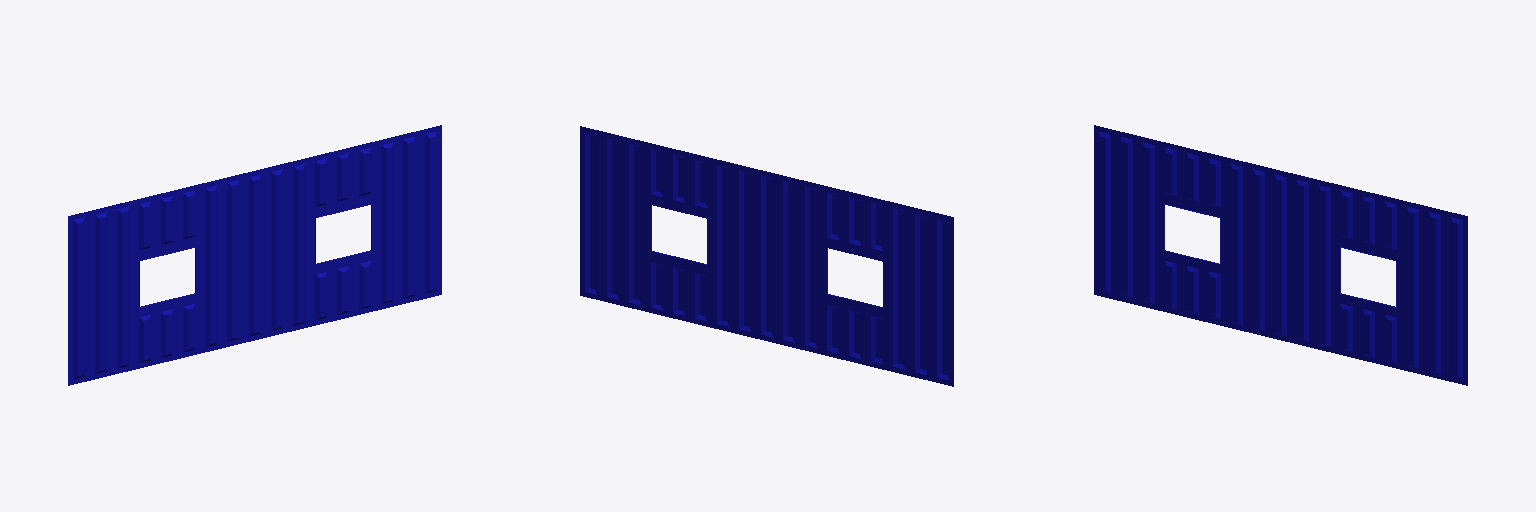
File: ContainerSide.obj
The picture shows the model from 3 angles: view 1: azimuth 30°, elevation 25°; view 2: azimuth 150°, elevation 25°; view 3: azimuth 330°, elevation 25°; orthographic projection.
Parts seen in each view (by area): view 1: Object002; view 2: Object002; view 3: Object002.
Part boxes in pixels (x1,y1,x2,y2): Object002: (68, 125, 441, 385); Object002: (580, 126, 953, 386); Object002: (1094, 125, 1467, 385).
Bounding box in the file's own units: 600 × 260 × 4.